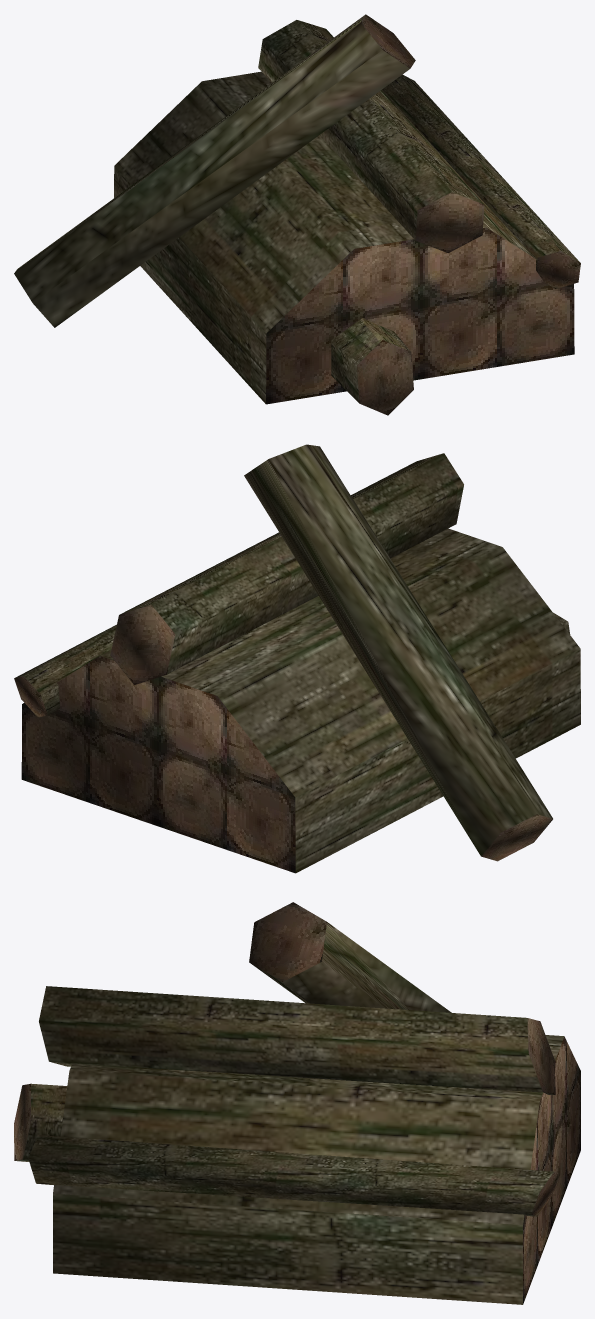
File: OC_FIREWOOD_V1.glb
The picture shows the model from 3 angles, top to bottom: view 1: azimuth 30°, elevation 25°; view 2: azimuth 150°, elevation 25°; view 3: azimuth 270°, elevation 25°; orthographic projection. The views are drawn at different scales.
Visible parts, largest first — view 1: Mesh; view 2: Mesh; view 3: Mesh.
Boxes of the visible parts, x1,y1,x2,y2 form: Mesh: [14, 14, 580, 415]; Mesh: [14, 444, 580, 873]; Mesh: [14, 902, 580, 1304].
Size of the model in its own units: 1.3 by 0.7979 by 1.27.
2 materials, 2 textured.
